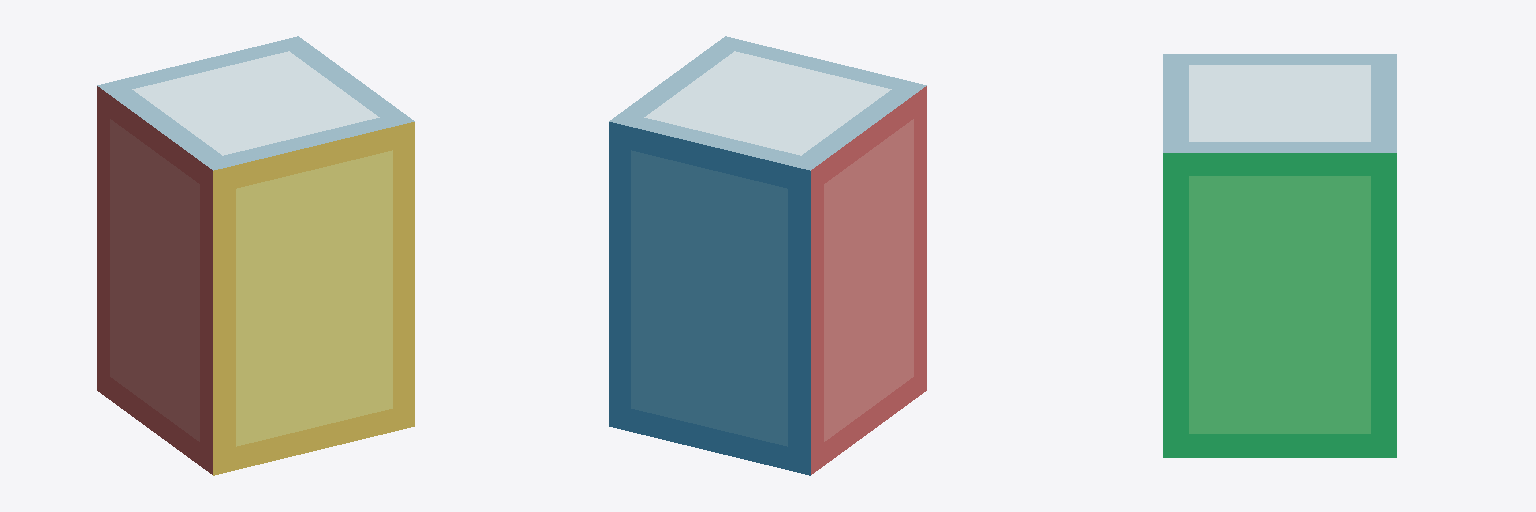
The picture shows the model from 3 angles: view 1: azimuth 30°, elevation 25°; view 2: azimuth 150°, elevation 25°; view 3: azimuth 270°, elevation 25°; orthographic projection.
Parts seen in each view (by area): view 1: cube; view 2: cube; view 3: cube.
Part boxes in pixels (left/top/right/bottom): cube: left=97, top=36, right=414, bottom=475; cube: left=609, top=36, right=926, bottom=475; cube: left=1163, top=54, right=1396, bottom=457.
Size of the model in its own units: 0.5625 by 0.8125 by 0.5625.
1 materials, 1 textured.